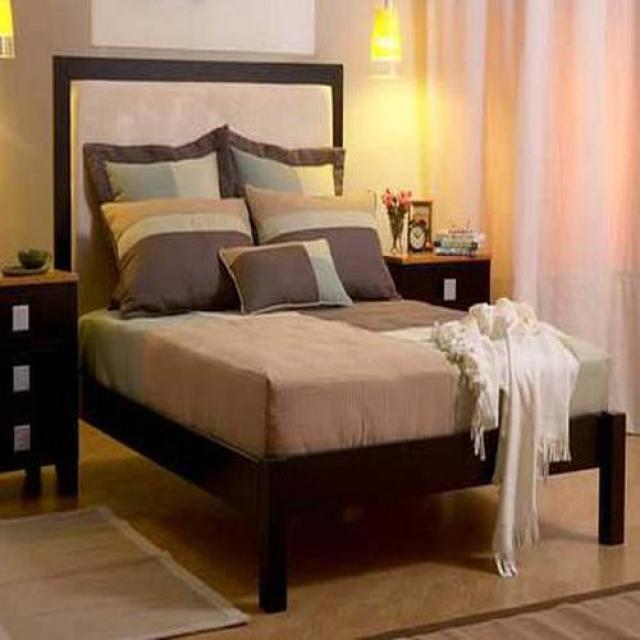bed: (58, 58, 625, 616)
